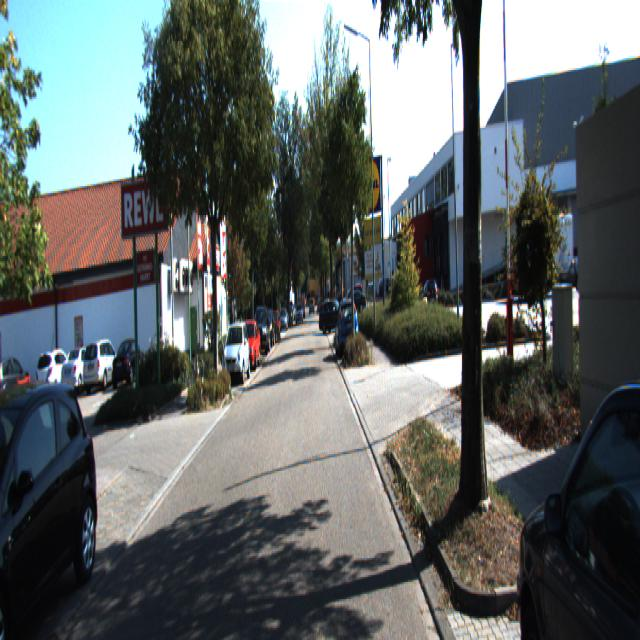Car: (508, 324, 640, 638), (0, 367, 102, 638), (82, 338, 126, 396), (34, 349, 79, 404), (112, 339, 149, 397), (61, 346, 102, 398), (222, 322, 250, 386), (336, 298, 358, 357), (237, 318, 260, 370), (252, 306, 272, 358)
